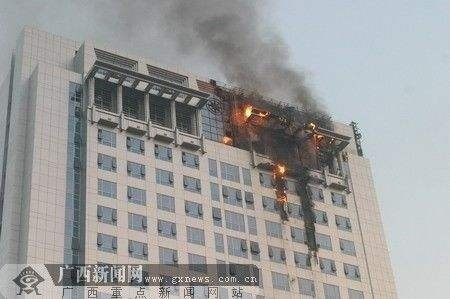fire: (236, 102, 267, 121), (308, 122, 323, 147), (272, 161, 286, 178)
